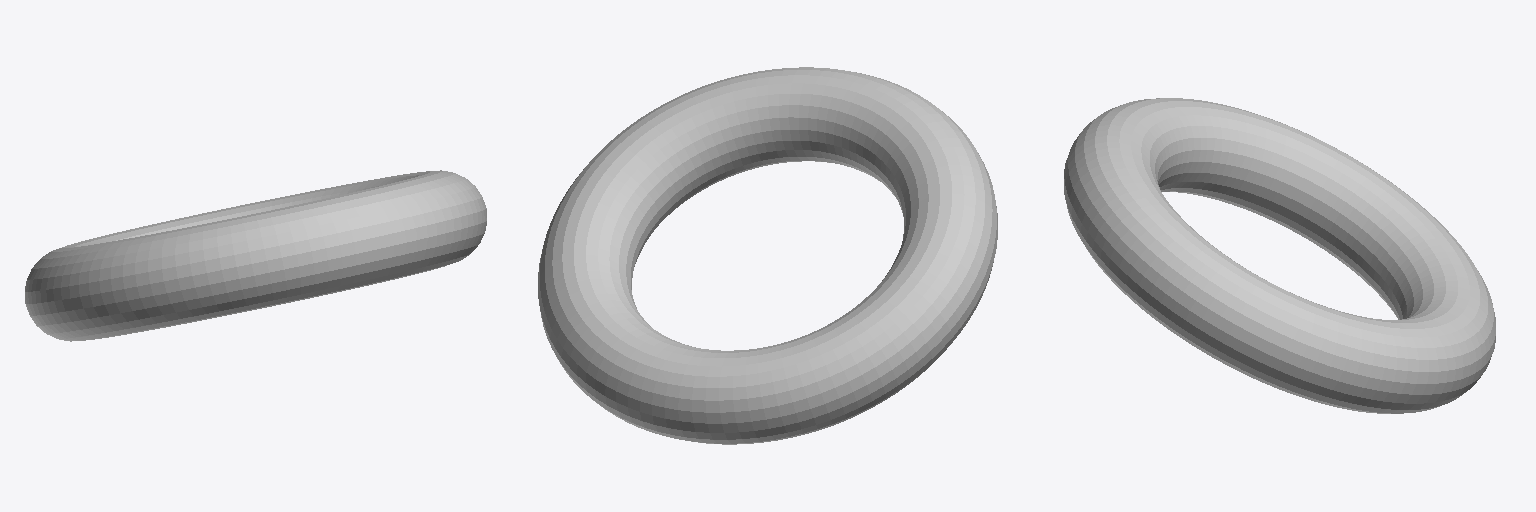
The model's file is 2x_rotated_torus.obj.
3 views of the same model, side by side, from view 1: azimuth 30°, elevation 25°; view 2: azimuth 150°, elevation 25°; view 3: azimuth 270°, elevation 25° (orthographic).
Parts seen in each view (by area): view 1: Torus.001; view 2: Torus.001; view 3: Torus.001.
Part boxes in pixels (x1,y1,x2,y2): Torus.001: (25, 170, 486, 341); Torus.001: (538, 67, 997, 444); Torus.001: (1064, 98, 1495, 413).
Size of the model in its own units: 2.5 by 1.37 by 2.3.